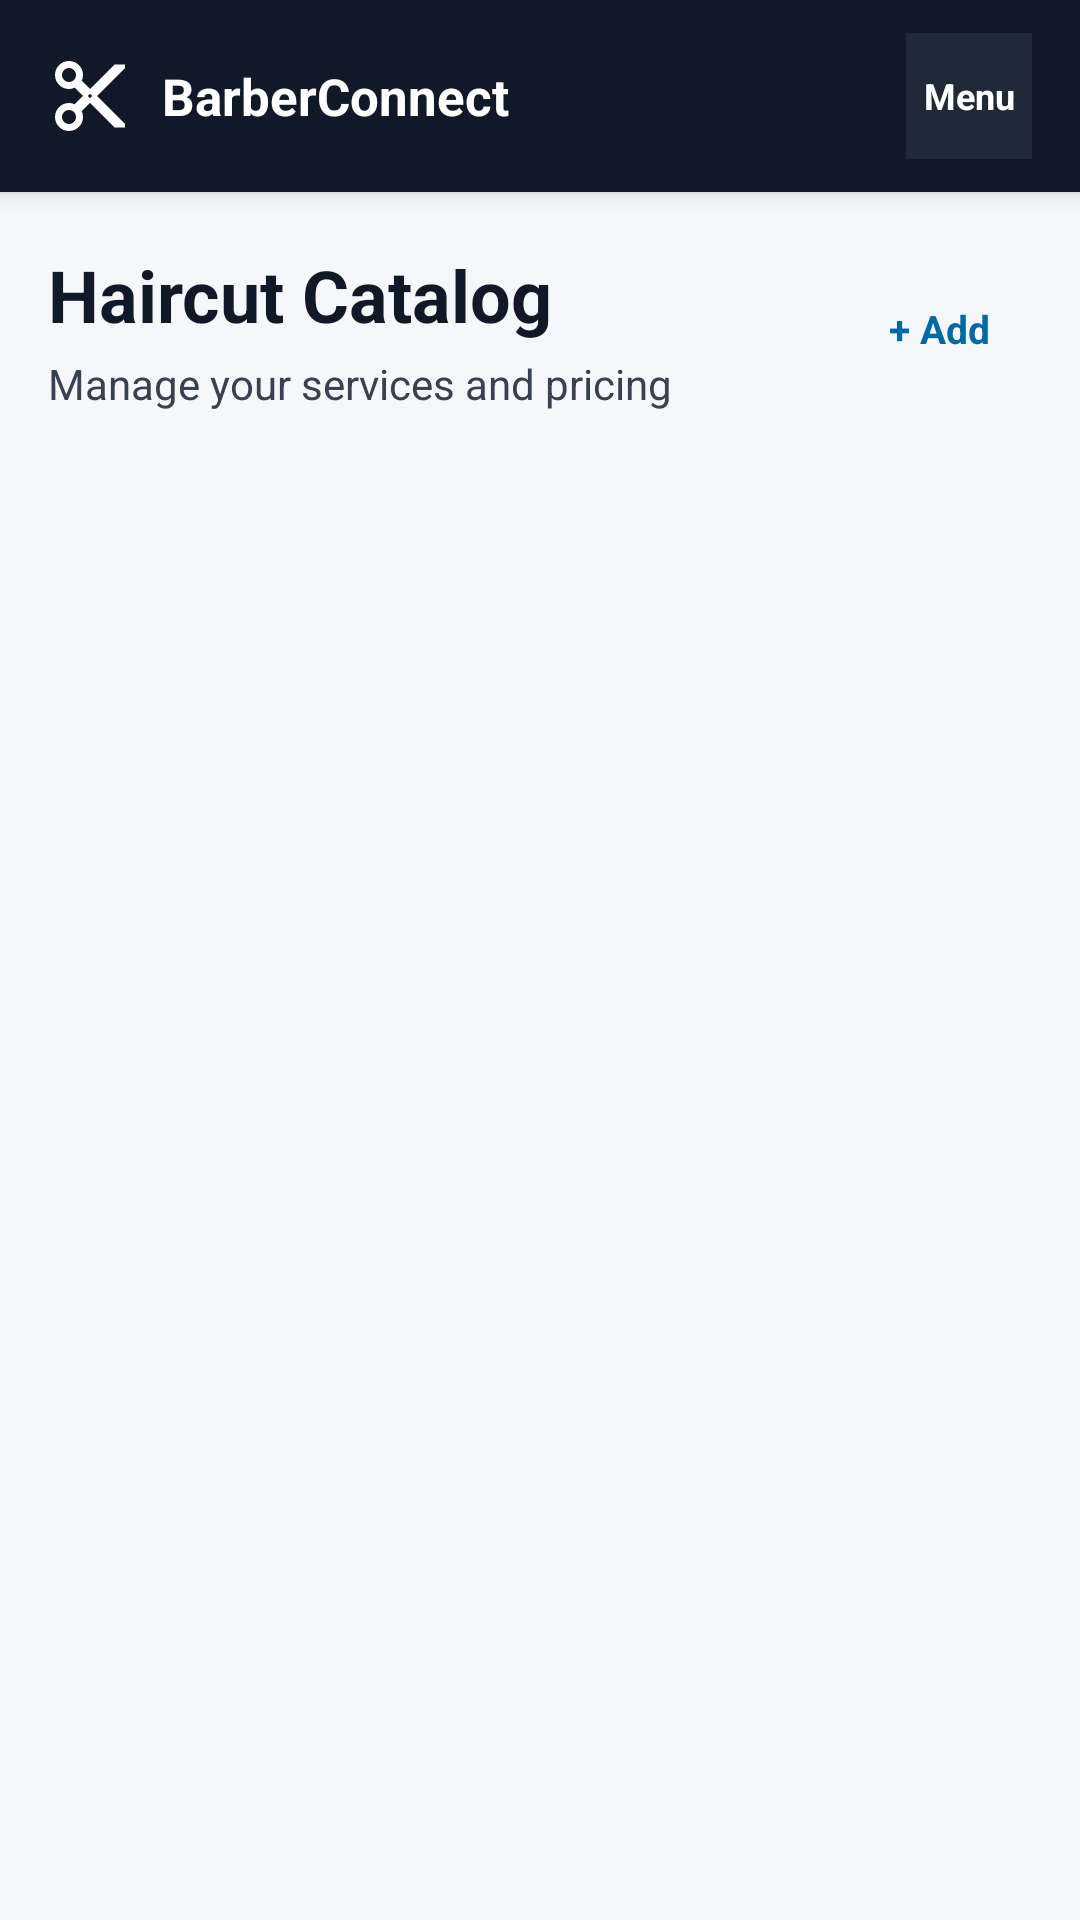

Screen size 1080*1920. Icon name, then its center in pixels as (x=x, y=y):
scissors: (x=90, y=96)
